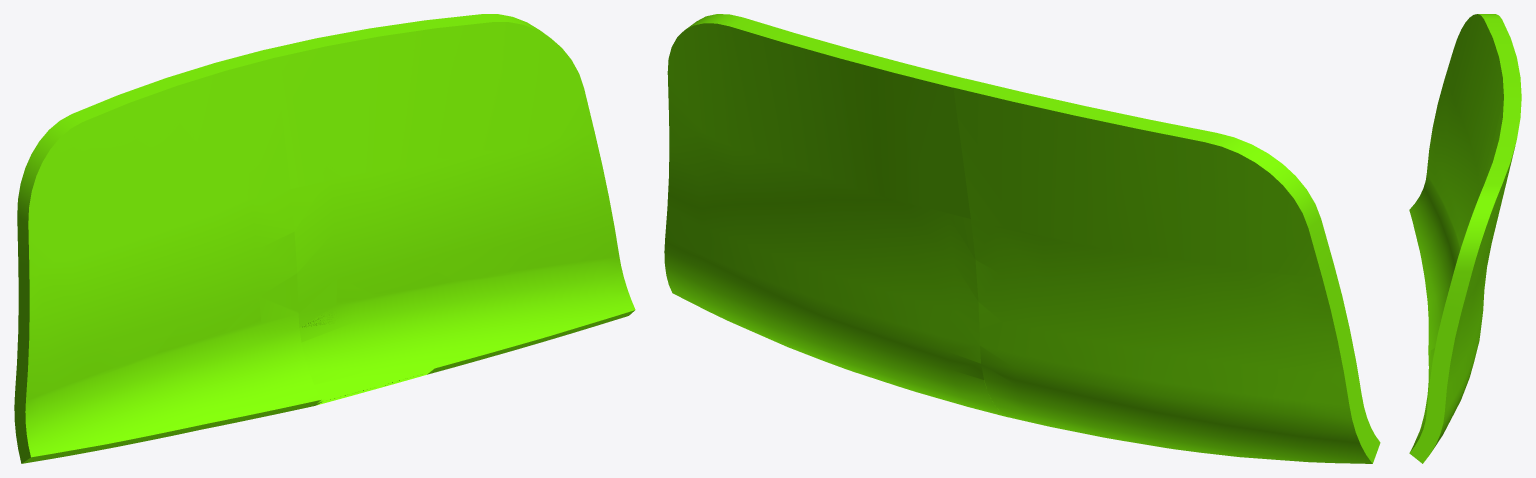
Rendered from chair_026_01.obj.
3 renders of one model, left to right at view 1: azimuth 30°, elevation 25°; view 2: azimuth 150°, elevation 25°; view 3: azimuth 270°, elevation 25°, orthographic. The views are drawn at different scales.
Size of the model in its own units: 474 by 240 by 92.21.
